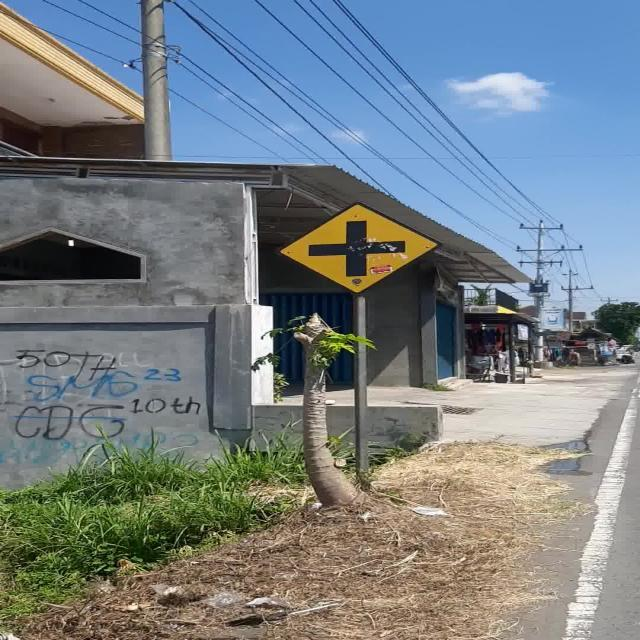Persimpangan 4: (276, 202, 443, 294)
